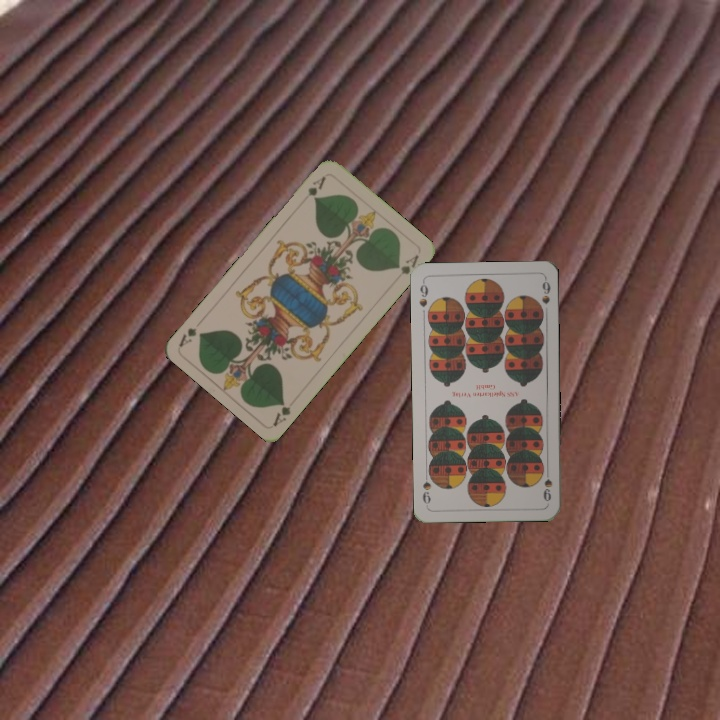GA: (304, 172, 329, 202), (269, 398, 293, 428)
S9: (540, 464, 555, 504), (415, 277, 430, 309)
